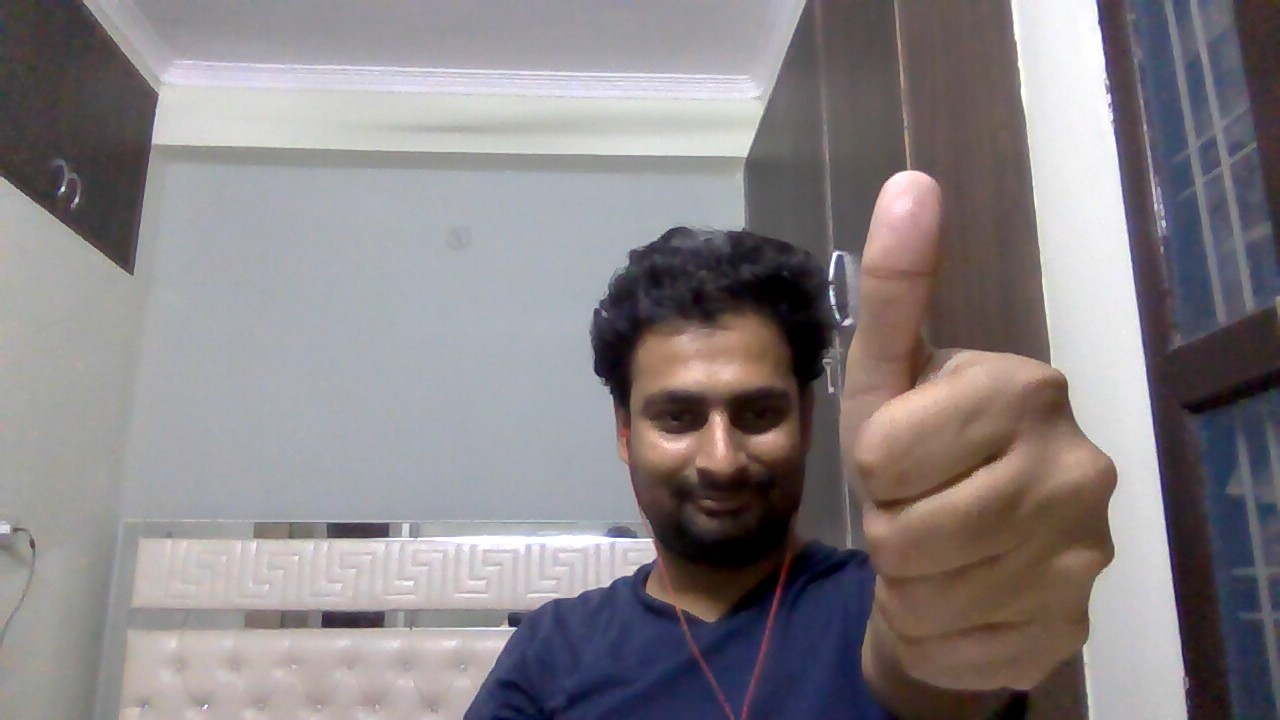Save: (808, 162, 1137, 702)
